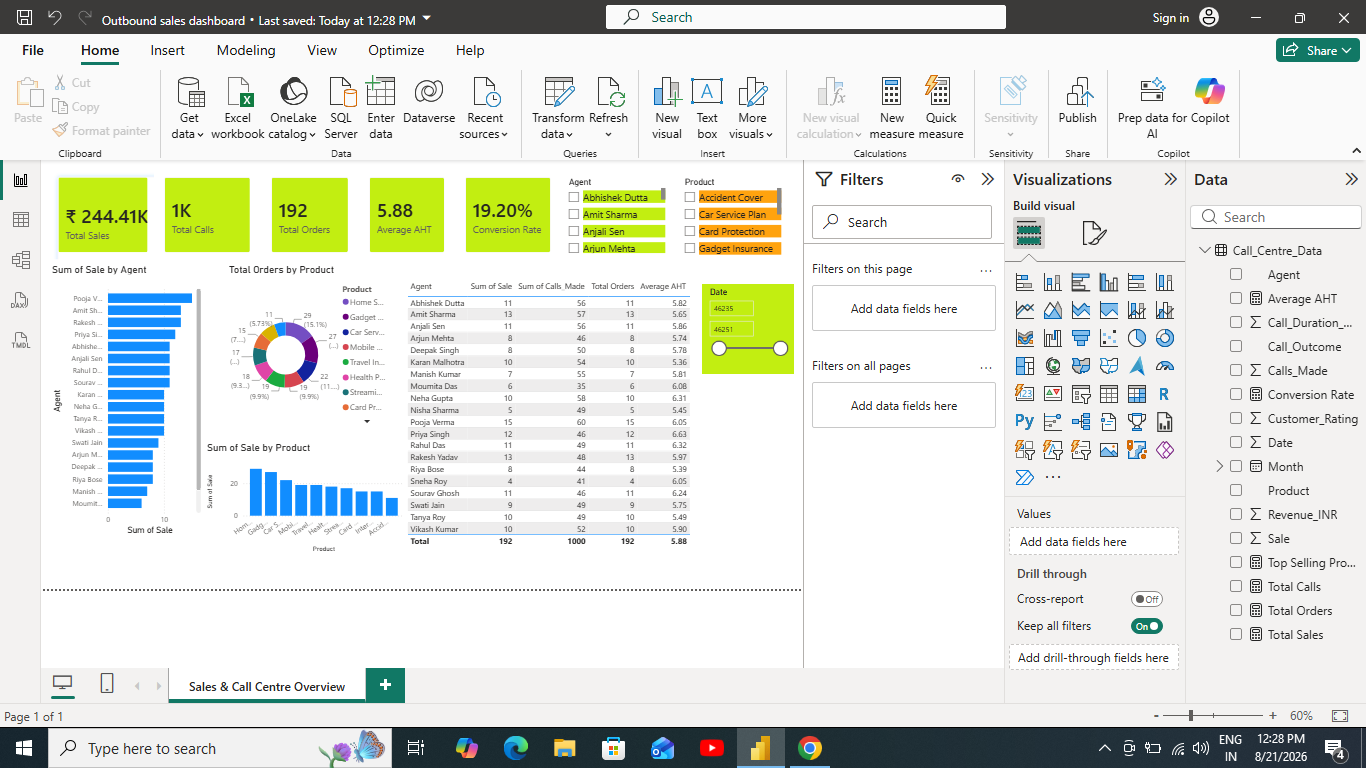

This screenshot's page, from the dashboard's own definition file:
{"tool":"powerbi","page":{"name":"Sales & Call Centre Overview","canvas":[1280,720],"ordinal":0},"visuals":[{"type":"cardVisual","fields":{"Data":["Call_Centre_Data.Total Sales"]},"box":[0,0,208.3,184.8],"z":0},{"type":"cardVisual","fields":{"Data":["Call_Centre_Data.Total Calls"]},"box":[189.8,11.8,179.7,161.3],"z":1000},{"type":"cardVisual","fields":{"Data":["Call_Centre_Data.Total Orders"]},"box":[369.6,11.8,164.6,161.3],"z":2000},{"type":"cardVisual","fields":{"Data":["Call_Centre_Data.Average AHT"]},"box":[534.2,11.8,161.3,161.3],"z":3000},{"type":"cardVisual","fields":{"Data":["Call_Centre_Data.Conversion Rate"]},"box":[695.4,11.8,178.1,161.3],"z":4000},{"type":"clusteredBarChart","fields":{"Category":["Call_Centre_Data.Agent"],"Y":["Sum(Call_Centre_Data.Sale)"]},"box":[13.4,173,260.4,461.9],"z":5000},{"type":"columnChart","fields":{"Category":["Call_Centre_Data.Product"],"Y":["Sum(Call_Centre_Data.Sale)"]},"box":[273.8,472,341,191.5],"z":6000},{"type":"donutChart","fields":{"Category":["Call_Centre_Data.Product"],"Y":["Call_Centre_Data.Total Orders"]},"box":[310.8,173,282.2,278.8],"z":7000},{"type":"tableEx","fields":{"Values":["Call_Centre_Data.Agent","Sum(Call_Centre_Data.Sale)","Sum(Call_Centre_Data.Calls_Made)","Call_Centre_Data.Total Orders","Call_Centre_Data.Average AHT"]},"box":[609.8,196.5,500.6,492.2],"z":8000},{"type":"slicer","fields":{"Values":["Call_Centre_Data.Agent"]},"box":[873.5,23.5,181.4,137.7],"z":9000},{"type":"slicer","fields":{"Values":["Call_Centre_Data.Product"]},"box":[1068.3,23.5,181.4,142.8],"z":10000},{"type":"slicer","fields":{"Values":["Call_Centre_Data.Date"]},"box":[1110.3,208.3,152.9,151.2],"z":10001}]}

Visuals, with their boxes on the page's 1280x720 design canvas (x1, y1, x2, y2). These are canvas units, not pixel positions in the 1366x768 screenshot, which may show the page scaled, cropped or inside an application window:
cardVisual - Call_Centre_Data.Total Sales: box(0, 0, 208, 185)
cardVisual - Call_Centre_Data.Total Calls: box(190, 12, 370, 173)
cardVisual - Call_Centre_Data.Total Orders: box(370, 12, 534, 173)
cardVisual - Call_Centre_Data.Average AHT: box(534, 12, 696, 173)
cardVisual - Call_Centre_Data.Conversion Rate: box(695, 12, 874, 173)
clusteredBarChart - Call_Centre_Data.Agent x Sum(Call_Centre_Data.Sale): box(13, 173, 274, 635)
columnChart - Call_Centre_Data.Product x Sum(Call_Centre_Data.Sale): box(274, 472, 615, 664)
donutChart - Call_Centre_Data.Product x Call_Centre_Data.Total Orders: box(311, 173, 593, 452)
tableEx - Call_Centre_Data.Agent x Sum(Call_Centre_Data.Sale): box(610, 196, 1110, 689)
slicer - Call_Centre_Data.Agent: box(874, 24, 1055, 161)
slicer - Call_Centre_Data.Product: box(1068, 24, 1250, 166)
slicer - Call_Centre_Data.Date: box(1110, 208, 1263, 360)
